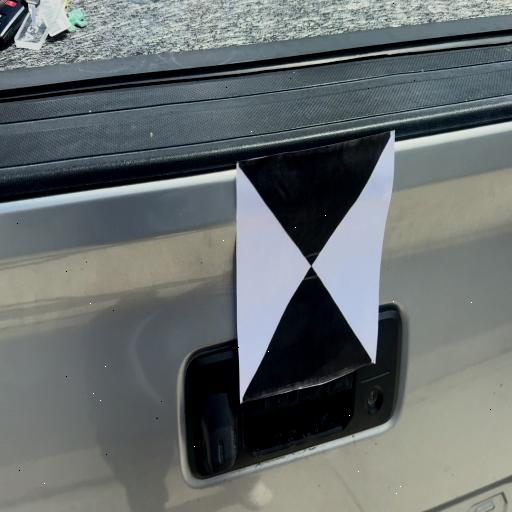target: (238, 131, 395, 403)
